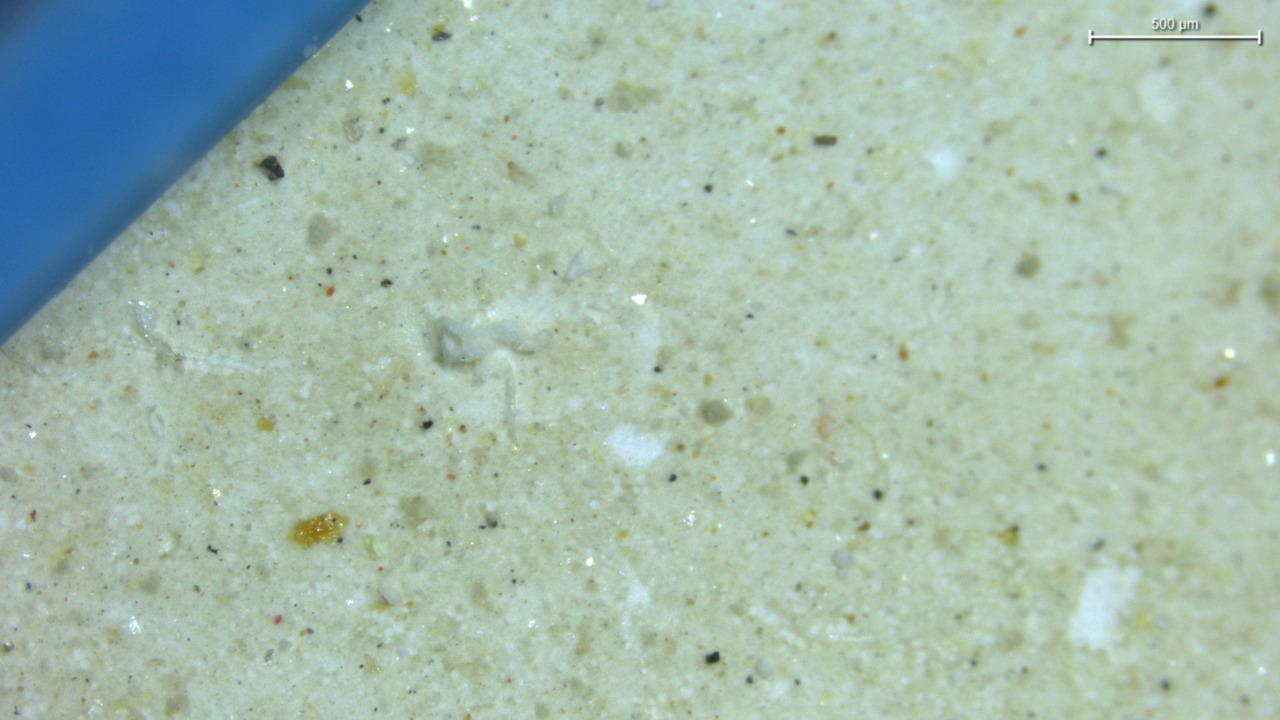microplastic_fragment: (437, 318, 537, 364), (563, 247, 594, 282)
